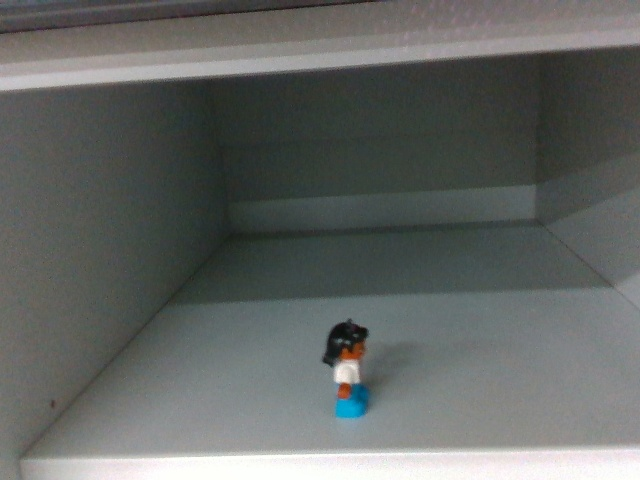people: (320, 315, 376, 422)
